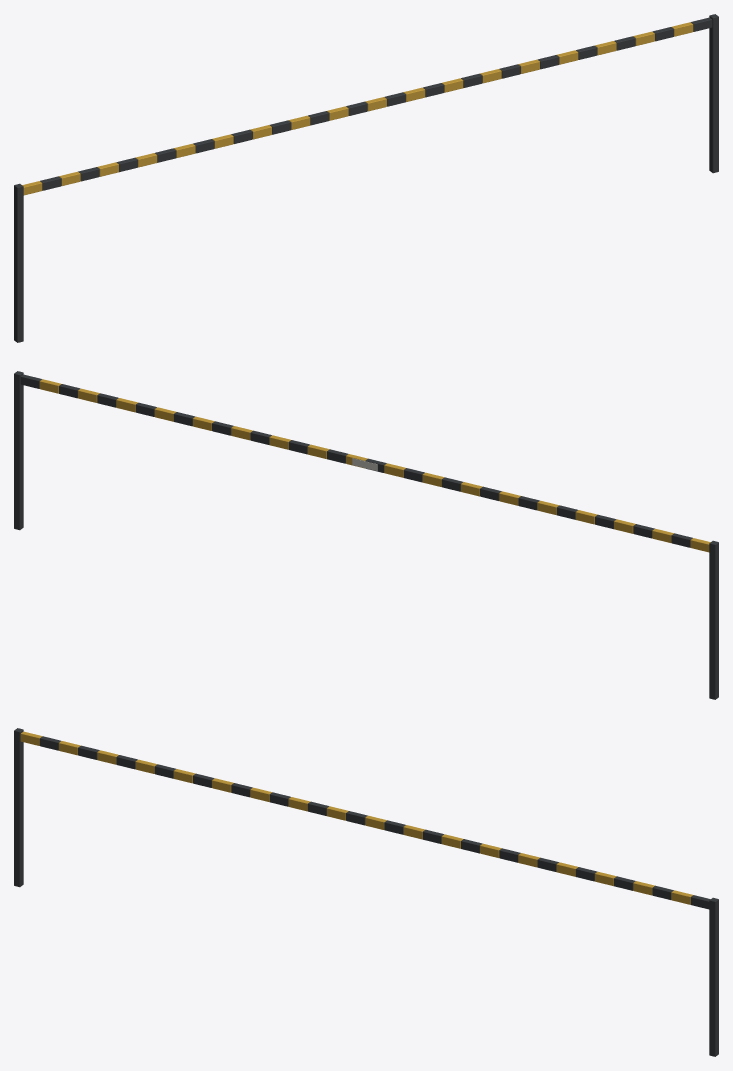
Rendered from prop_car_park_height_bar_w2200_h440.glb.
The picture shows the model from 3 angles, top to bottom: view 1: azimuth 30°, elevation 25°; view 2: azimuth 150°, elevation 25°; view 3: azimuth 330°, elevation 25°; orthographic projection.
Parts seen in each view (by area): view 1: Body; view 2: Body; view 3: Body.
Part boxes in pixels (x1,y1,x2,y2): Body: (14,14,718,342); Body: (14,371,718,699); Body: (14,728,718,1056).
Size of what is drawn, in the model's own units: 22.2 by 4.7 by 0.2.
